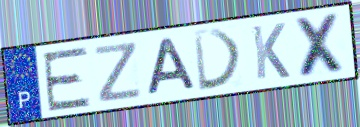A: (145, 35, 199, 98)
D: (191, 27, 246, 94)
E: (40, 44, 93, 114)
K: (249, 21, 292, 82)
X: (292, 11, 350, 80)
Z: (92, 40, 143, 105)
